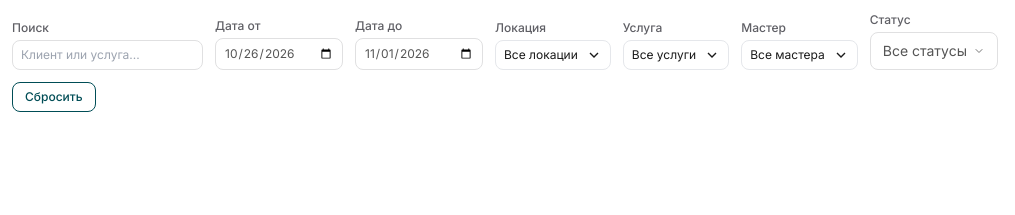
Test: RecordsFilters — selection data via canonical-key queries (GH #213 Task 8) › does not read selection maps from RecordsContext anymore
What coordinates should you click on to do the following:
click the button with aria-label "Фильтр по локации"
I would click on:
 (553, 55)
Its box is left=495, top=40, right=611, bottom=70.
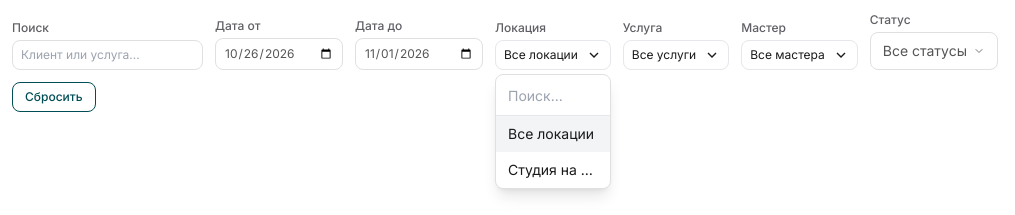
Result: the option "Студия на Невском" is shown at left=496, top=152, right=610, bottom=188
Result: the number of options is 2 at left=496, top=116, right=610, bottom=152; left=496, top=152, right=610, bottom=188
